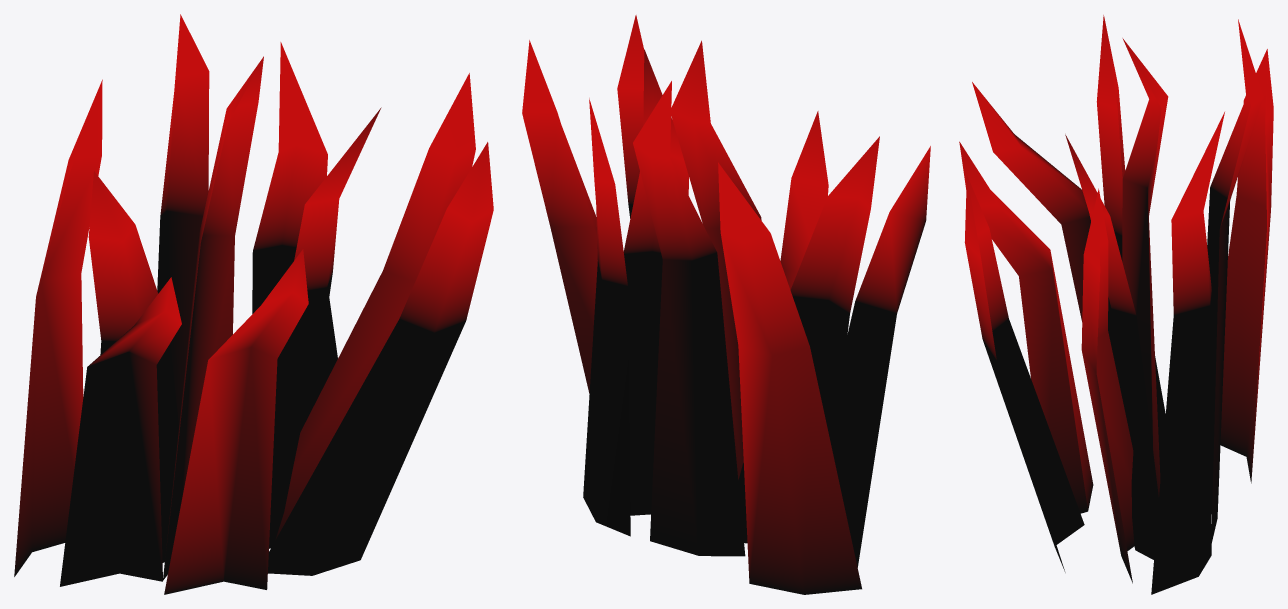
File: SM_Grass_01.fbx
3 renders of one model, left to right at view 1: azimuth 30°, elevation 25°; view 2: azimuth 150°, elevation 25°; view 3: azimuth 270°, elevation 25°, orthographic. The views are drawn at different scales.
Visible parts, largest first — view 1: SM_Grass_01; view 2: SM_Grass_01; view 3: SM_Grass_01.
Boxes of the visible parts, x1,y1,x2,y2 form: SM_Grass_01: [14, 14, 493, 594]; SM_Grass_01: [522, 15, 930, 594]; SM_Grass_01: [959, 15, 1273, 594].
Bounding box in the file's own units: 55.38 × 65.31 × 36.52.
